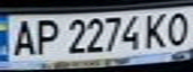2: (84, 15, 109, 55), (63, 16, 87, 55)
4: (121, 12, 145, 51)
7: (103, 14, 124, 52)
A: (6, 17, 39, 57)
K: (139, 10, 172, 48)
O: (163, 9, 193, 46)
P: (30, 16, 63, 56)
